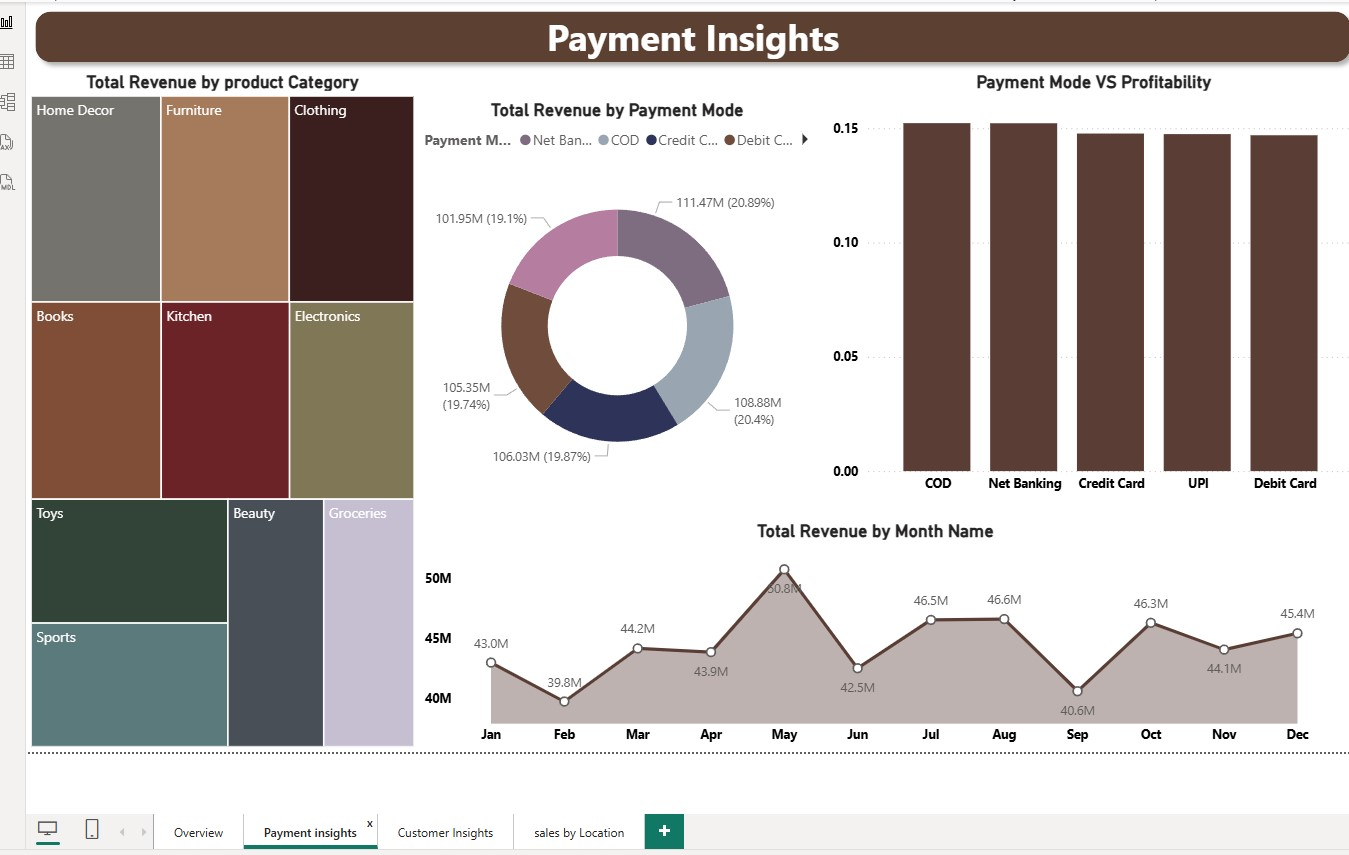

Layout of this report page (visuals, bound fields, positions):
{"tool":"powerbi","page":{"name":"Payment insights","canvas":[1280,720],"ordinal":1},"visuals":[{"type":"shape","box":[0,0,1280,66.8],"z":0},{"type":"treemap","title":"Total Revenue  by product Category","fields":{"Group":["Ecommerce_Sales_Data_2024_2025.Category"],"Values":["Sum(Ecommerce_Sales_Data_2024_2025.Sales)"]},"box":[0,66.5,377.4,653.3],"z":1000},{"type":"lineChart","title":"Total Revenue by Month Name","fields":{"Category":["DateTable.Month Name"],"Y":["Sum(Ecommerce_Sales_Data_2024_2025.Sales)"]},"box":[377.4,497,876.1,224.4],"z":2000},{"type":"clusteredColumnChart","title":"Payment Mode VS Profitability","fields":{"Category":["Ecommerce_Sales_Data_2024_2025.Payment Mode"],"Y":["Ecommerce_Sales_Data_2024_2025.Profit Margin"]},"box":[769.7,66.5,510.3,413.9],"z":3000},{"type":"donutChart","title":"Total Revenue by Payment Mode","fields":{"Category":["Ecommerce_Sales_Data_2024_2025.Payment Mode"],"Y":["Sum(Ecommerce_Sales_Data_2024_2025.Sales)"]},"box":[377.4,93.1,380.7,387.3],"z":4000}]}

Visuals, with their boxes on the page's 1280x720 design canvas (x1, y1, x2, y2). These are canvas units, not pixel positions in the 1349x855 screenshot, which may show the page scaled, cropped or inside an application window:
shape: {"left": 0, "top": 0, "right": 1280, "bottom": 67}
"Total Revenue  by product Category" treemap: {"left": 0, "top": 66, "right": 377, "bottom": 720}
"Total Revenue by Month Name" lineChart: {"left": 377, "top": 497, "right": 1254, "bottom": 721}
"Payment Mode VS Profitability" clusteredColumnChart: {"left": 770, "top": 66, "right": 1280, "bottom": 480}
"Total Revenue by Payment Mode" donutChart: {"left": 377, "top": 93, "right": 758, "bottom": 480}
